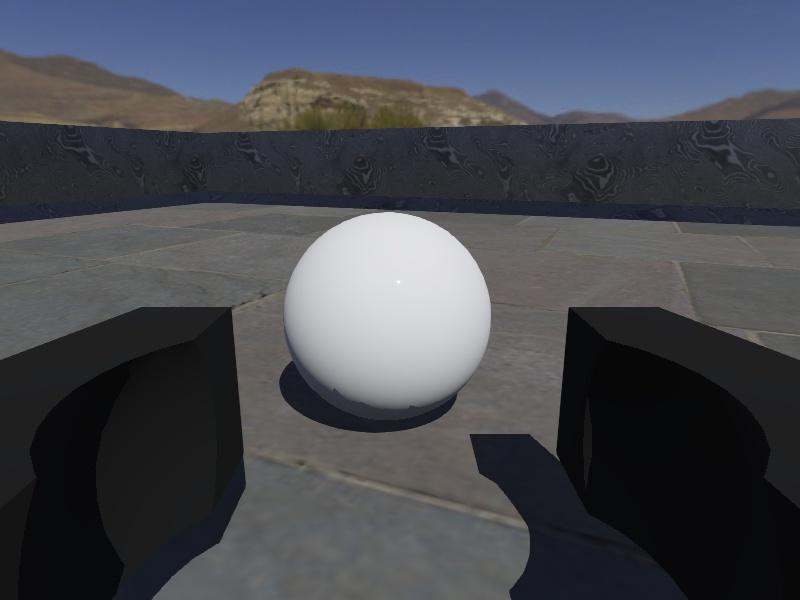white ball: (282, 211, 493, 423)
